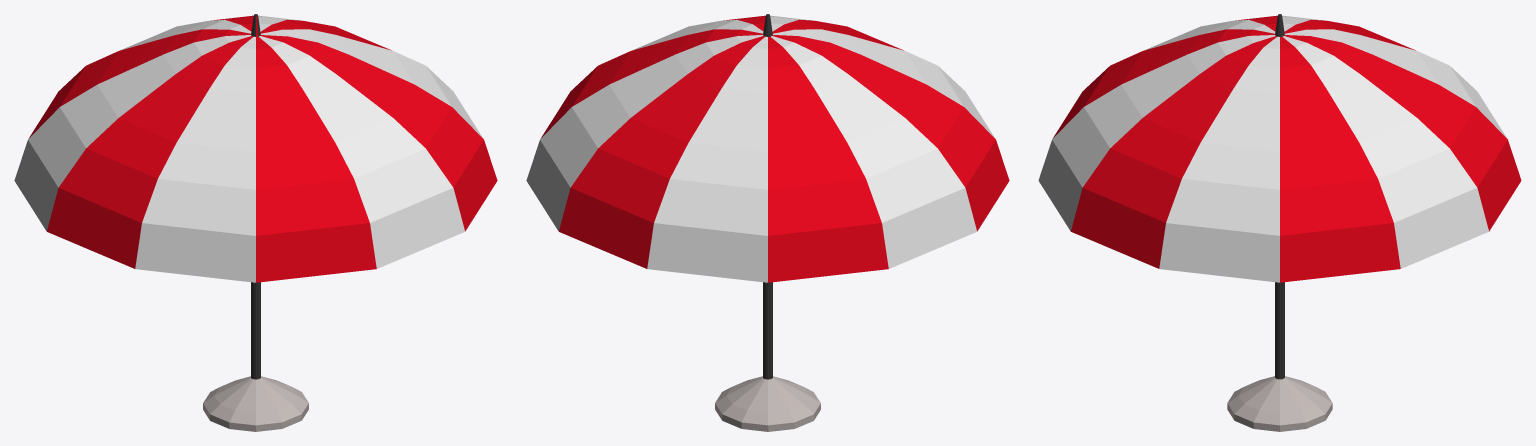
Rendered from Sombrinha.fbx.
3 views of the same model, side by side, from view 1: azimuth 30°, elevation 25°; view 2: azimuth 150°, elevation 25°; view 3: azimuth 270°, elevation 25° (orthographic).
Parts seen in each view (by area): view 1: Sombrinha; view 2: Sombrinha; view 3: Sombrinha.
Part boxes in pixels (left/top/right/bottom): Sombrinha: left=14, top=14, right=497, bottom=431; Sombrinha: left=526, top=14, right=1009, bottom=431; Sombrinha: left=1038, top=14, right=1521, bottom=431.
Size of the model in its own units: 2333 by 2103 by 2333.
